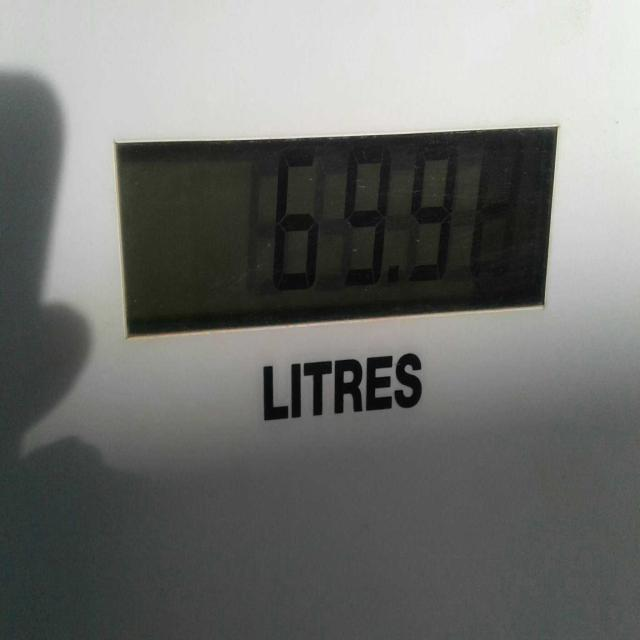.: (390, 267, 400, 285)
6: (269, 136, 318, 294)
8: (474, 139, 519, 273)
9: (412, 141, 456, 282), (346, 142, 386, 284)
